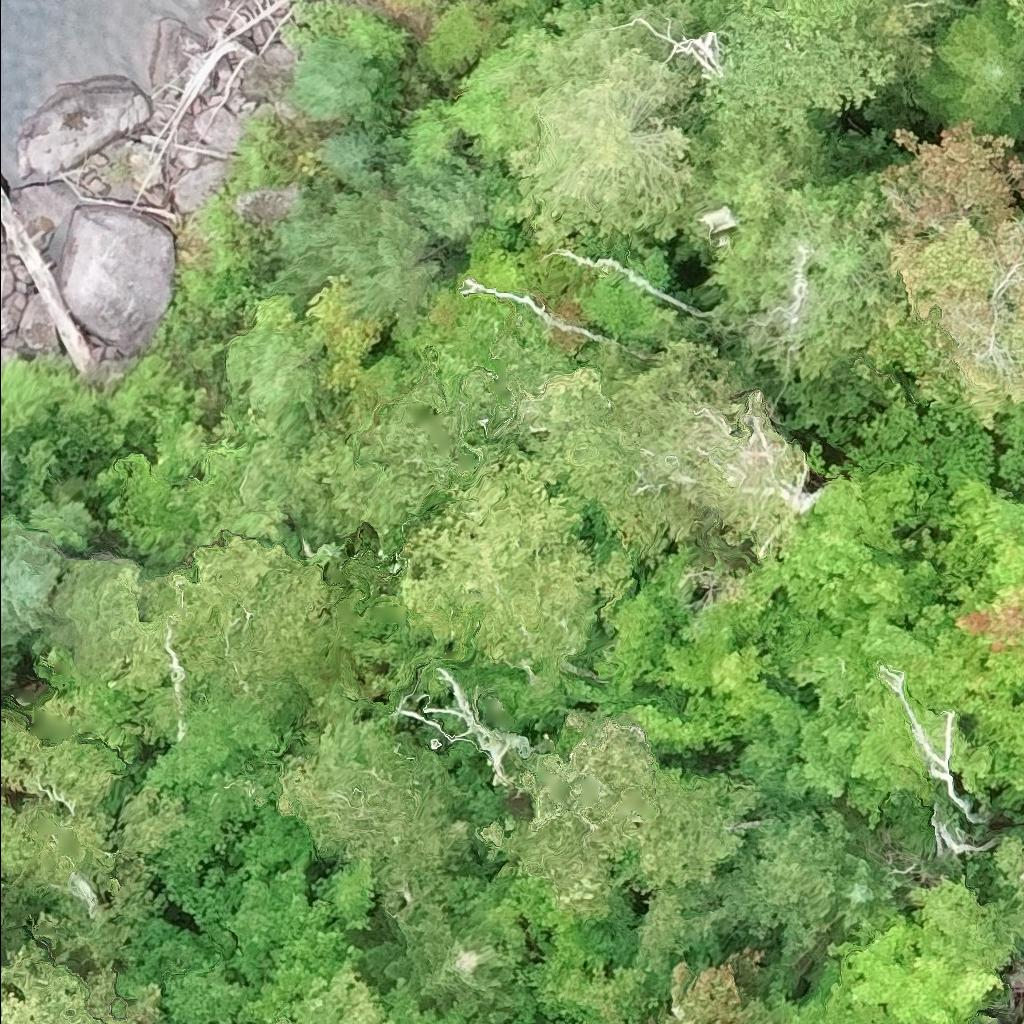crown: (483, 719, 765, 923), (395, 441, 635, 674), (680, 458, 945, 653), (875, 116, 1023, 428), (700, 168, 904, 382), (507, 13, 696, 242), (273, 714, 475, 908), (621, 623, 808, 794), (824, 874, 1023, 1023), (526, 365, 671, 565), (704, 7, 895, 150), (707, 802, 871, 955), (364, 902, 521, 1010), (911, 0, 1023, 145), (600, 337, 720, 454), (504, 875, 616, 977), (444, 43, 536, 166), (226, 317, 324, 413), (0, 936, 105, 1023), (751, 962, 899, 1023), (0, 521, 68, 651), (833, 849, 925, 945), (22, 486, 102, 552), (726, 0, 867, 32), (0, 643, 15, 697), (1004, 0, 1023, 31), (656, 1021, 662, 1023), (1021, 155, 1023, 161)
